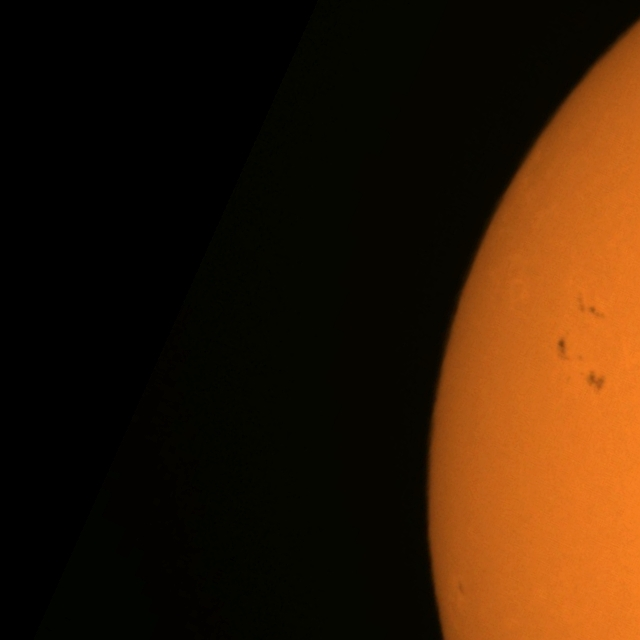sunspot: (556, 337, 584, 366), (579, 370, 606, 393), (578, 303, 603, 318), (556, 337, 570, 362)
